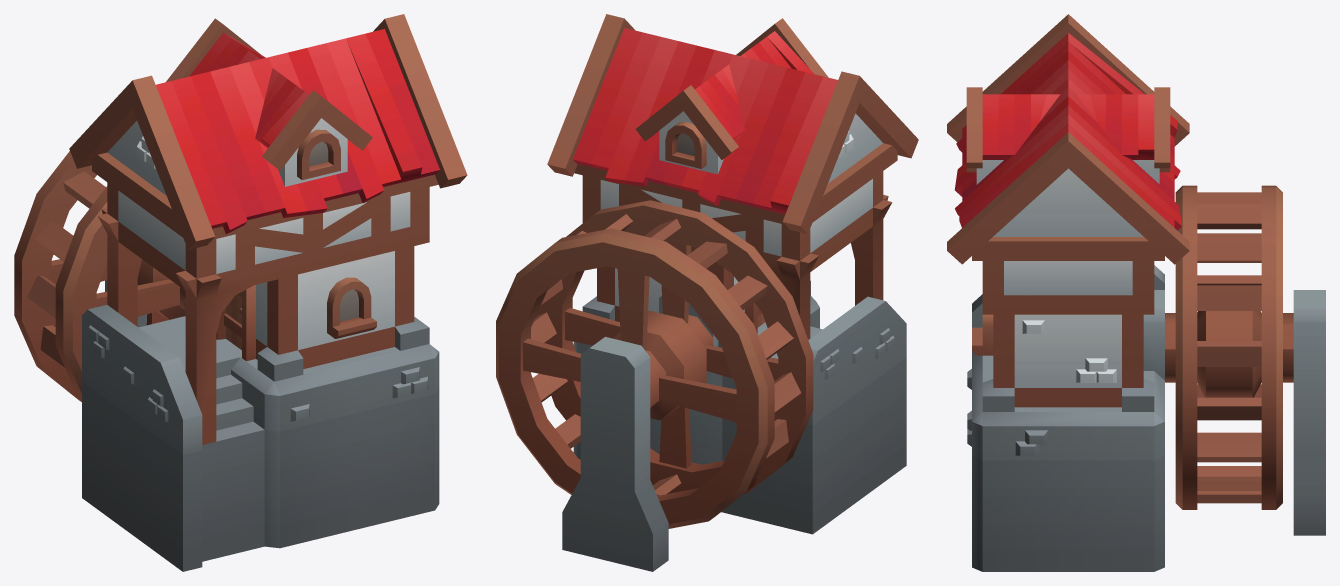
Rendered from kk_watermill_v1.glb.
The picture shows the model from 3 angles, left to right: view 1: azimuth 30°, elevation 25°; view 2: azimuth 150°, elevation 25°; view 3: azimuth 270°, elevation 25°; orthographic projection. The views are drawn at different scales.
Parts seen in each view (by area): view 1: building_watermill_red; view 2: building_watermill_red; view 3: building_watermill_red.
Boxes of the visible parts, box(x1,y1,x2,y2) form: building_watermill_red: box(14, 14, 467, 571); building_watermill_red: box(496, 14, 918, 571); building_watermill_red: box(947, 14, 1325, 571).
Size of the model in its own units: 1.05 by 1.57 by 1.24.
1 material, 1 textured.
